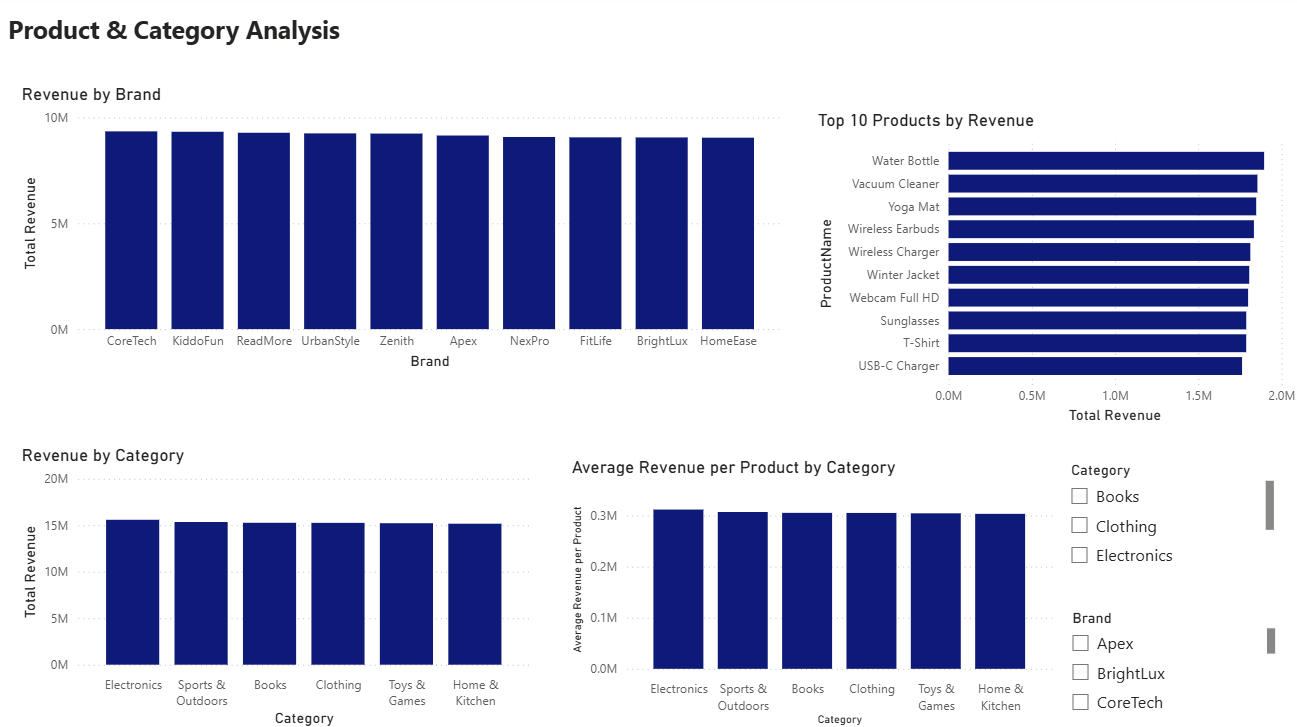

The dashboard page shown, as its layout file describes it:
{"tool":"powerbi","page":{"name":"Page 2","canvas":[1280,720],"ordinal":1},"visuals":[{"type":"textbox","box":[9.8,12.2,1270.5,57.5],"z":0},{"type":"clusteredColumnChart","title":"Revenue by Brand","fields":{"Y":["Amazon.Total Revenue"],"Category":["Amazon.Brand"]},"box":[23.3,86.4,753.3,284],"z":1},{"type":"clusteredColumnChart","title":"Revenue by Category","fields":{"Y":["Amazon.Total Revenue"],"Category":["Amazon.Category"]},"box":[23.3,440.5,507.7,279.9],"z":2},{"type":"clusteredBarChart","title":"Top 10 Products by Revenue","fields":{"Y":["Amazon.Total Revenue"],"Category":["Amazon.ProductName"]},"box":[802.7,112.5,477.5,311.5],"z":3},{"type":"clusteredColumnChart","title":"Average Revenue per Product by Category","fields":{"Y":["Amazon.Average Revenue per Product"],"Category":["Amazon.Category"]},"box":[561.2,451.5,480.3,269],"z":4},{"type":"slicer","fields":{"Values":["Amazon.Category"]},"box":[1041.9,451.2,216.4,121.1],"z":5},{"type":"slicer","fields":{"Values":["Amazon.Brand"]},"box":[1043.1,595.5,216.4,114.9],"z":6}]}

Visuals, with their boxes in screenshot pixels (x1, y1, x2, y2), scaled from the page's 1280x720 canvas onto the 1297x727 screenshot:
textbox: (10, 12, 1296, 70)
"Revenue by Brand" clusteredColumnChart: (24, 87, 787, 374)
"Revenue by Category" clusteredColumnChart: (24, 445, 538, 726)
"Top 10 Products by Revenue" clusteredBarChart: (813, 114, 1296, 428)
"Average Revenue per Product by Category" clusteredColumnChart: (569, 456, 1055, 726)
slicer - Amazon.Category: (1056, 456, 1275, 578)
slicer - Amazon.Brand: (1057, 601, 1276, 717)
